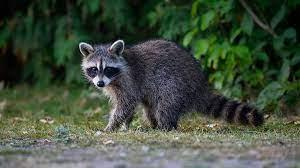raccoon: (68, 25, 281, 151)
